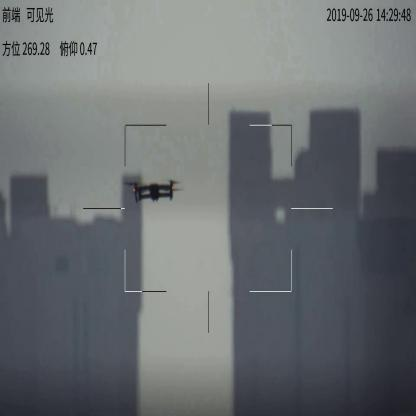uav: (123, 176, 181, 204)
